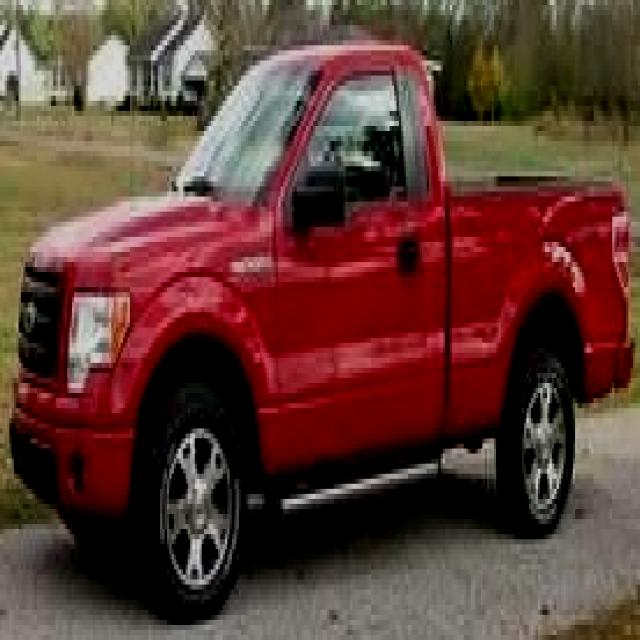CMT: (10, 45, 634, 619)
